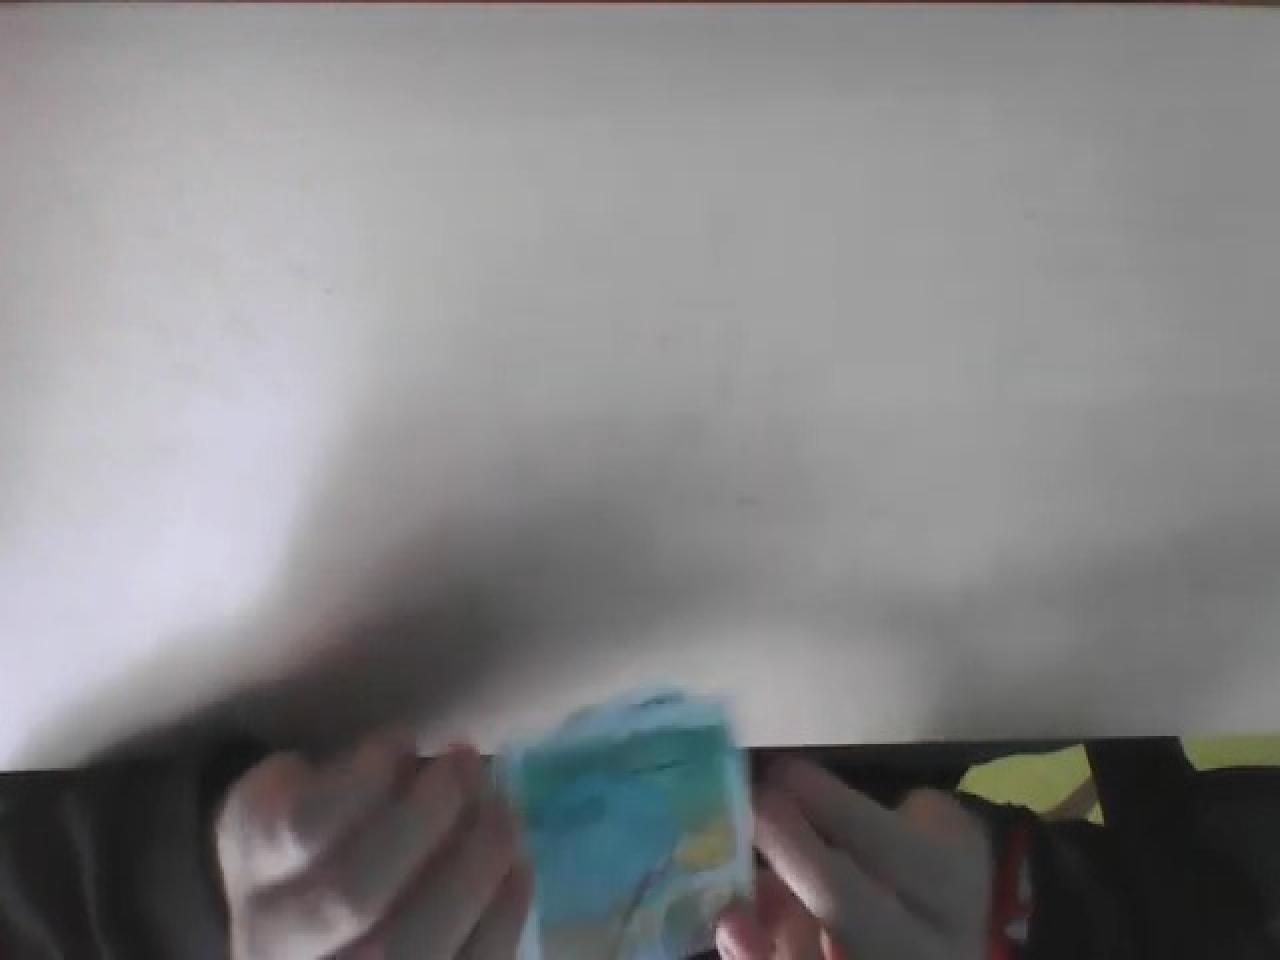100leva: (488, 686, 758, 960)
